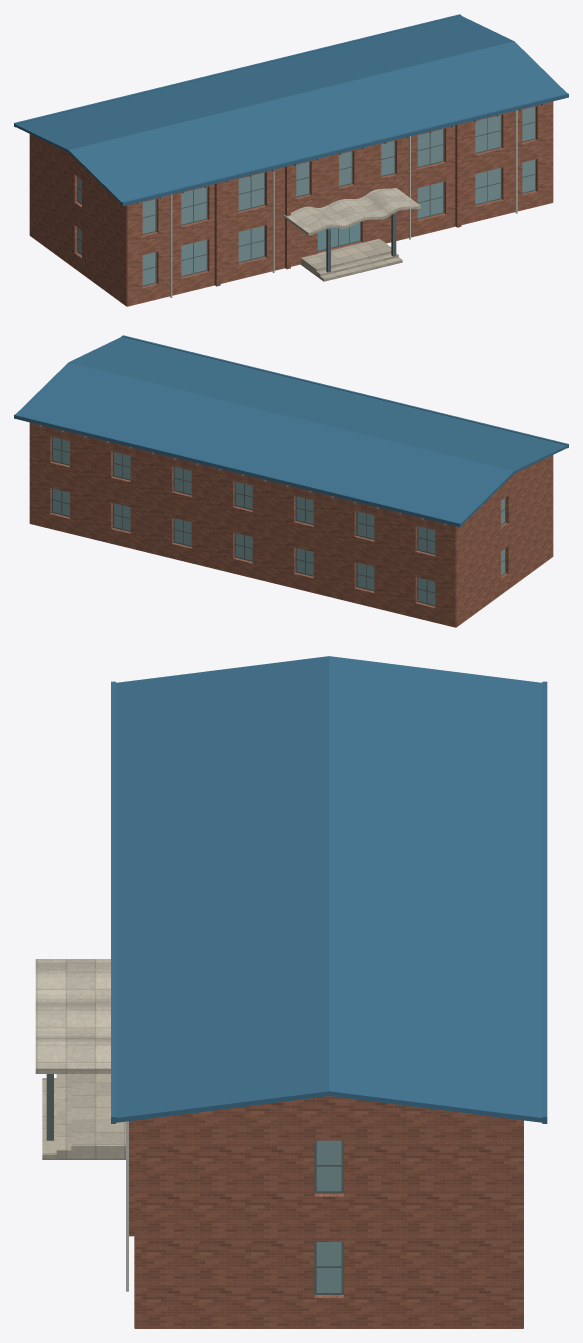
3 views of the same model, one above another, from view 1: azimuth 30°, elevation 25°; view 2: azimuth 150°, elevation 25°; view 3: azimuth 270°, elevation 25° (orthographic). The views are drawn at different scales.
Visible parts, largest first — view 1: chesshir__blueRoof, chesshir__brick, chesshir__sideglass, chesshir__trim, chesshir__frame, chesshir__stair-main, chesshir__drain, chesshir__threshold-main, chesshir__glass; view 2: chesshir__blueRoof, chesshir__brick, chesshir__sideglass, chesshir__frame; view 3: chesshir__blueRoof, chesshir__brick, chesshir__trim, chesshir__stair-main, chesshir__threshold-main, chesshir__sideglass, chesshir__frame.
Part boxes in pixels (x1=…): chesshir__blueRoof: x1=14, y1=14, x2=568, y2=206; chesshir__brick: x1=29, y1=101, x2=553, y2=306; chesshir__sideglass: x1=78, y1=106, x2=534, y2=285; chesshir__trim: x1=284, y1=188, x2=420, y2=235; chesshir__frame: x1=77, y1=106, x2=535, y2=286; chesshir__stair-main: x1=313, y1=247, x2=402, y2=281; chesshir__drain: x1=170, y1=110, x2=517, y2=297; chesshir__threshold-main: x1=300, y1=238, x2=391, y2=273; chesshir__glass: x1=317, y1=222, x2=359, y2=250; chesshir__blueRoof: x1=14, y1=335, x2=568, y2=527; chesshir__brick: x1=29, y1=422, x2=553, y2=627; chesshir__sideglass: x1=53, y1=437, x2=504, y2=604; chesshir__frame: x1=52, y1=437, x2=505, y2=606; chesshir__blueRoof: x1=111, y1=656, x2=547, y2=1123; chesshir__brick: x1=129, y1=1096, x2=523, y2=1328; chesshir__trim: x1=35, y1=959, x2=110, y2=1073; chesshir__stair-main: x1=42, y1=1074, x2=85, y2=1159; chesshir__threshold-main: x1=86, y1=1074, x2=125, y2=1159; chesshir__sideglass: x1=316, y1=1140, x2=341, y2=1292; chesshir__frame: x1=46, y1=1074, x2=343, y2=1294.
Size of the model in its own units: 31.75 by 8.43 by 15.77.
9 materials, 4 textured.
